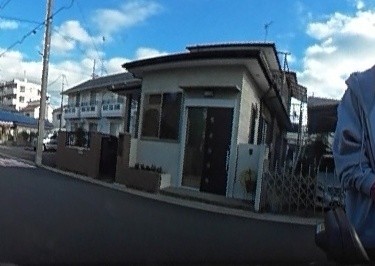person: (347, 0, 375, 250)
